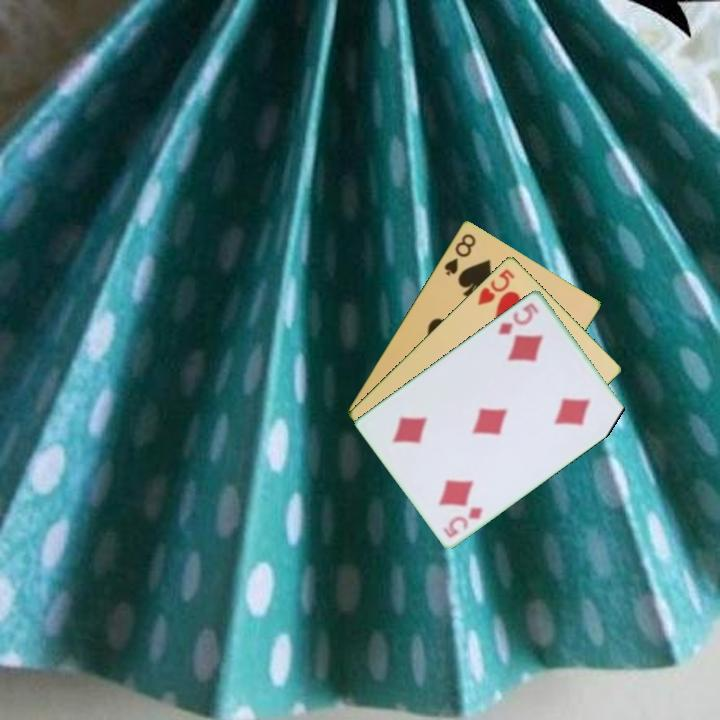5d: (494, 299, 542, 338), (439, 503, 486, 540)
5h: (473, 265, 518, 308)
8s: (440, 230, 479, 278)
